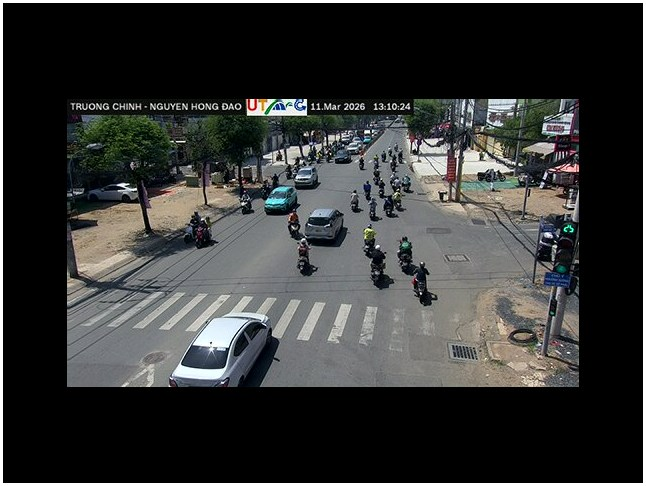car: (169, 312, 274, 385), (304, 207, 345, 244), (84, 182, 137, 203), (263, 185, 299, 215), (294, 166, 319, 189), (335, 149, 352, 164)
motorbike: (297, 242, 319, 276), (191, 221, 215, 249), (296, 252, 319, 276), (383, 193, 396, 217)
